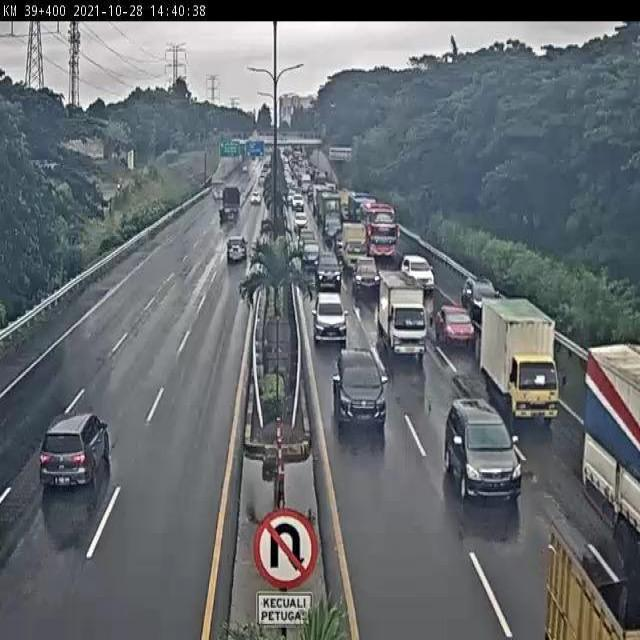car: (445, 397, 526, 499), (40, 417, 113, 488), (333, 349, 388, 424), (436, 303, 478, 351), (311, 289, 347, 344), (461, 273, 500, 319), (313, 249, 343, 291), (403, 254, 433, 294), (352, 259, 379, 295), (222, 233, 249, 264)
truck: (484, 294, 563, 430), (378, 268, 429, 357)
